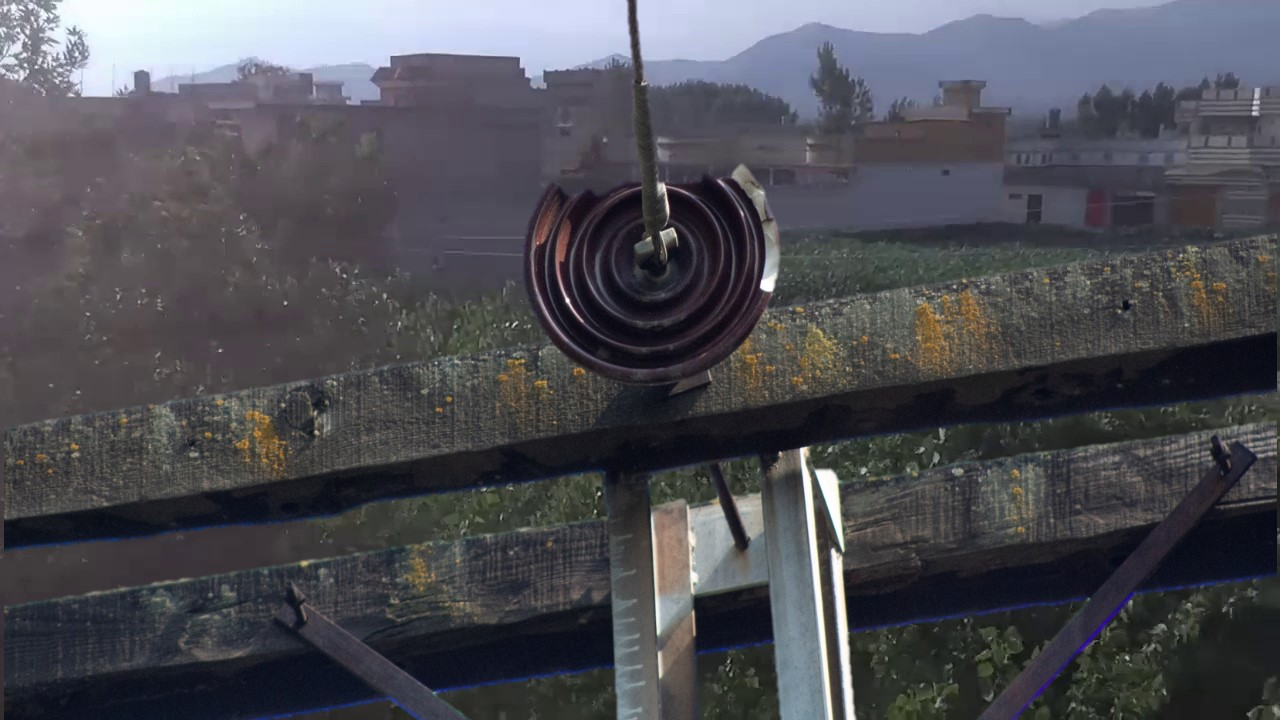defect_disc: (521, 159, 789, 393)
